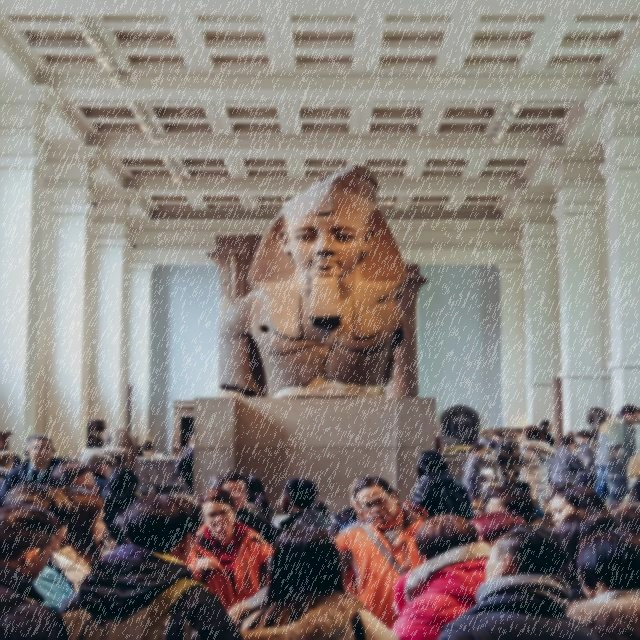pessoa: (202, 163, 432, 400), (58, 494, 246, 640), (214, 516, 412, 640), (470, 483, 640, 608), (434, 523, 604, 639), (22, 448, 139, 616), (333, 474, 431, 630), (387, 512, 503, 640), (182, 486, 276, 612), (560, 528, 640, 640), (434, 404, 536, 484), (240, 470, 339, 548), (205, 468, 282, 550), (0, 433, 72, 508), (592, 404, 640, 510), (410, 449, 474, 522), (274, 477, 337, 534), (516, 424, 549, 500), (170, 430, 200, 504), (548, 436, 584, 490), (0, 431, 23, 508), (572, 430, 600, 490), (535, 416, 581, 452), (578, 404, 613, 430), (84, 416, 110, 448), (140, 434, 162, 454)
